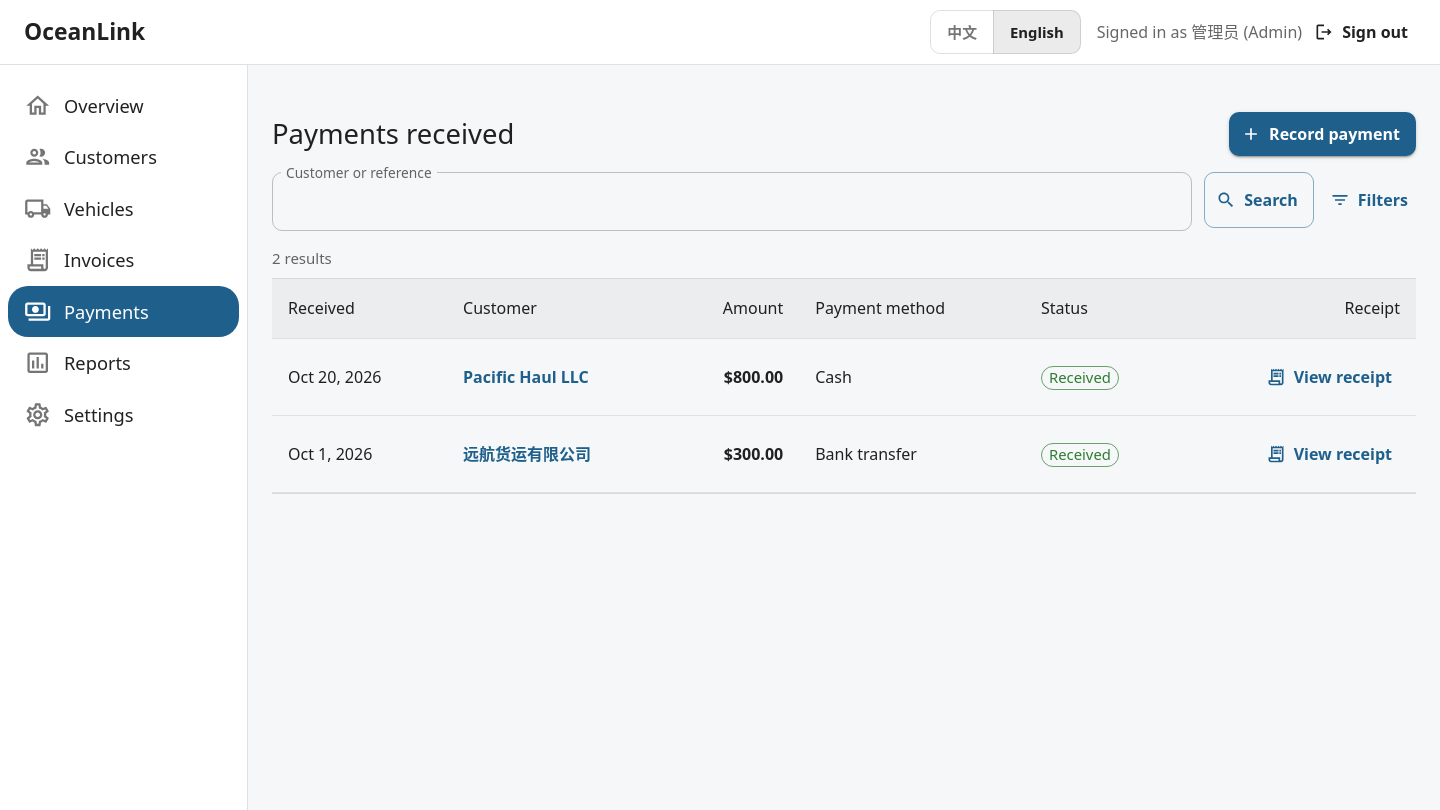
staff payment workflows › shows a scannable receipt table and keeps staff/reference details out of the list
This screenshot has width=1440, height=810.
Expected: the text "Cash" is shown, top-left (799, 339), bottom-right (1025, 416)
Expected: the text "Demo administrator" is not shown
Click the button "View receipt" in the row of "Oct 20, 2026". click: (1331, 377)
box: top-left (1262, 355), bottom-right (1400, 399)
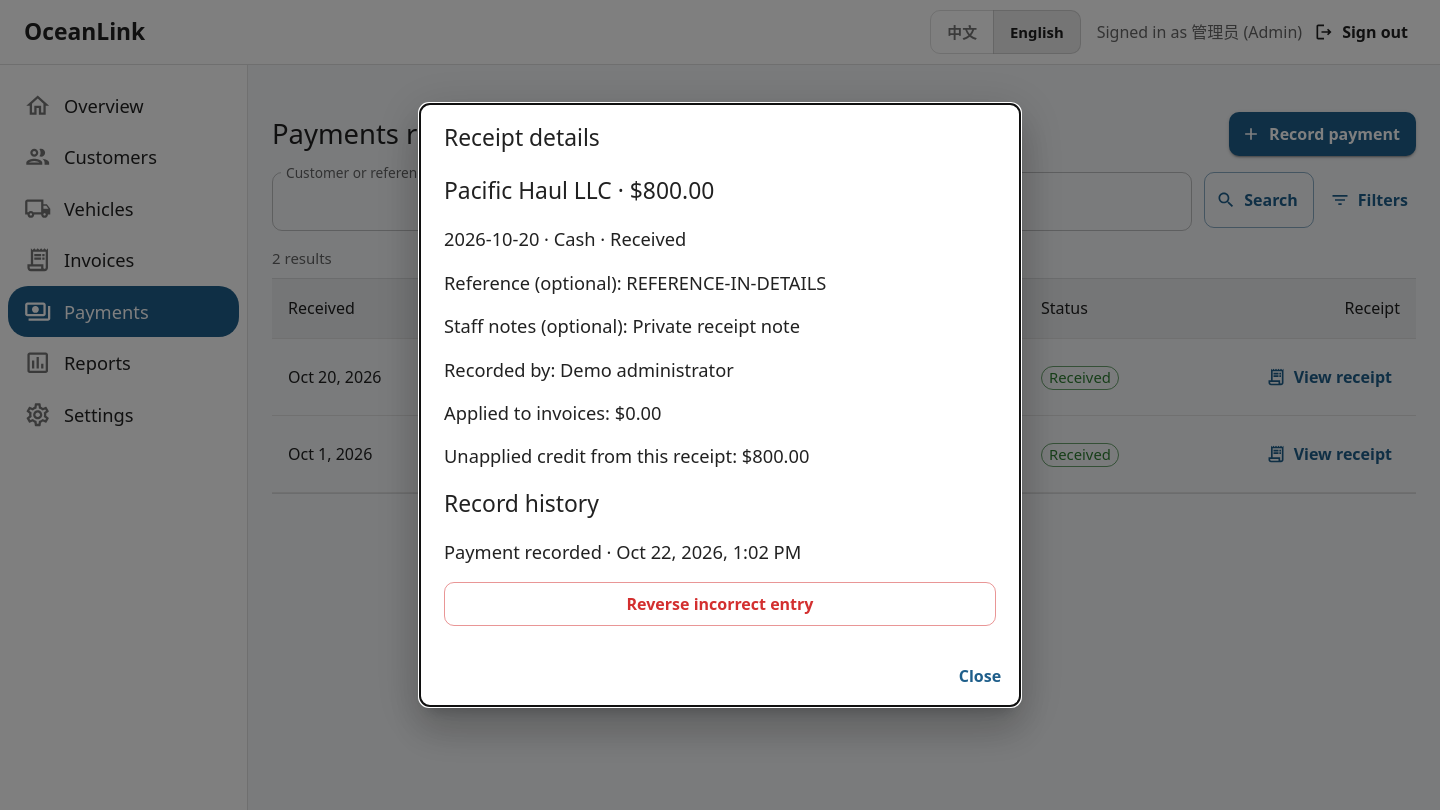
Result: the text "Reference (optional): REFERENCE-IN-DETAILS" is shown at top-left (444, 270), bottom-right (826, 295)
